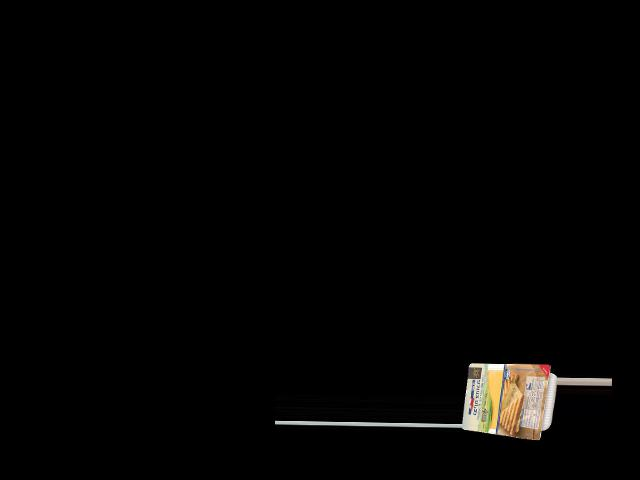cheese: (462, 366, 557, 438)
